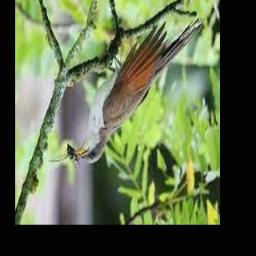Cuckoo: (74, 18, 204, 163)
